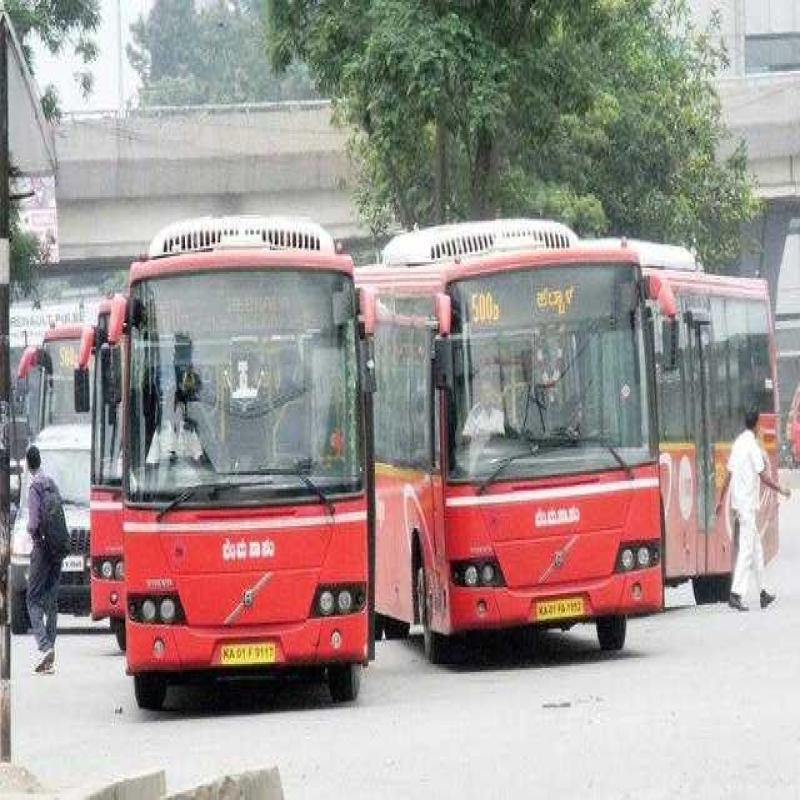bus: (82, 170, 393, 772), (411, 196, 698, 686)
